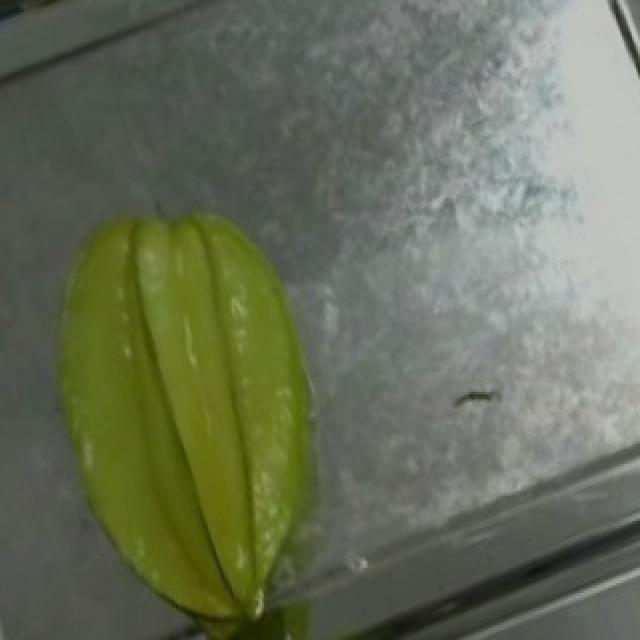fruit: (6, 171, 410, 630)
